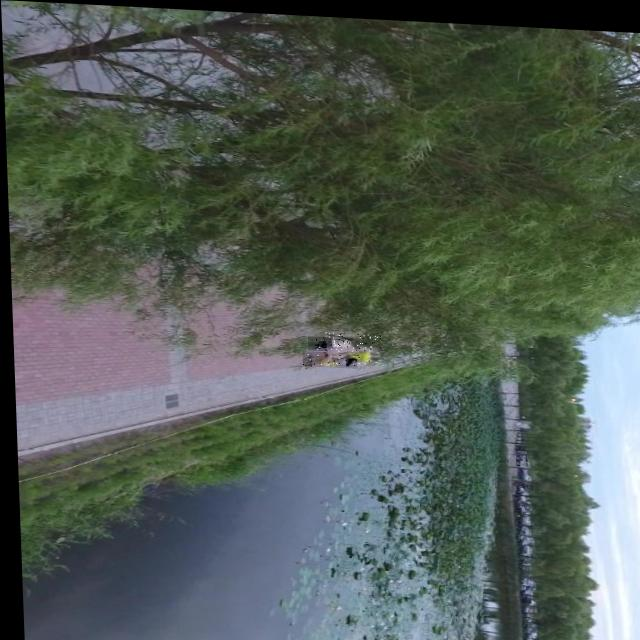Person: (322, 329, 379, 348), (324, 344, 376, 363), (299, 348, 354, 365), (304, 333, 357, 349), (328, 354, 353, 363)
